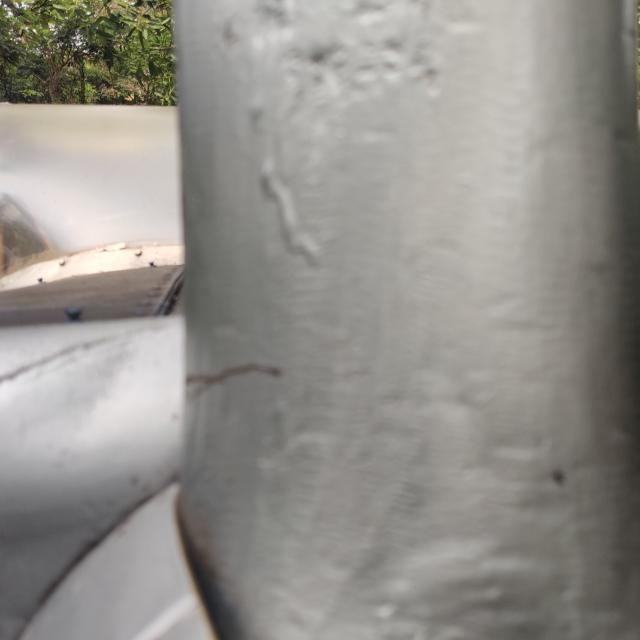Scratch: (185, 363, 282, 386)
